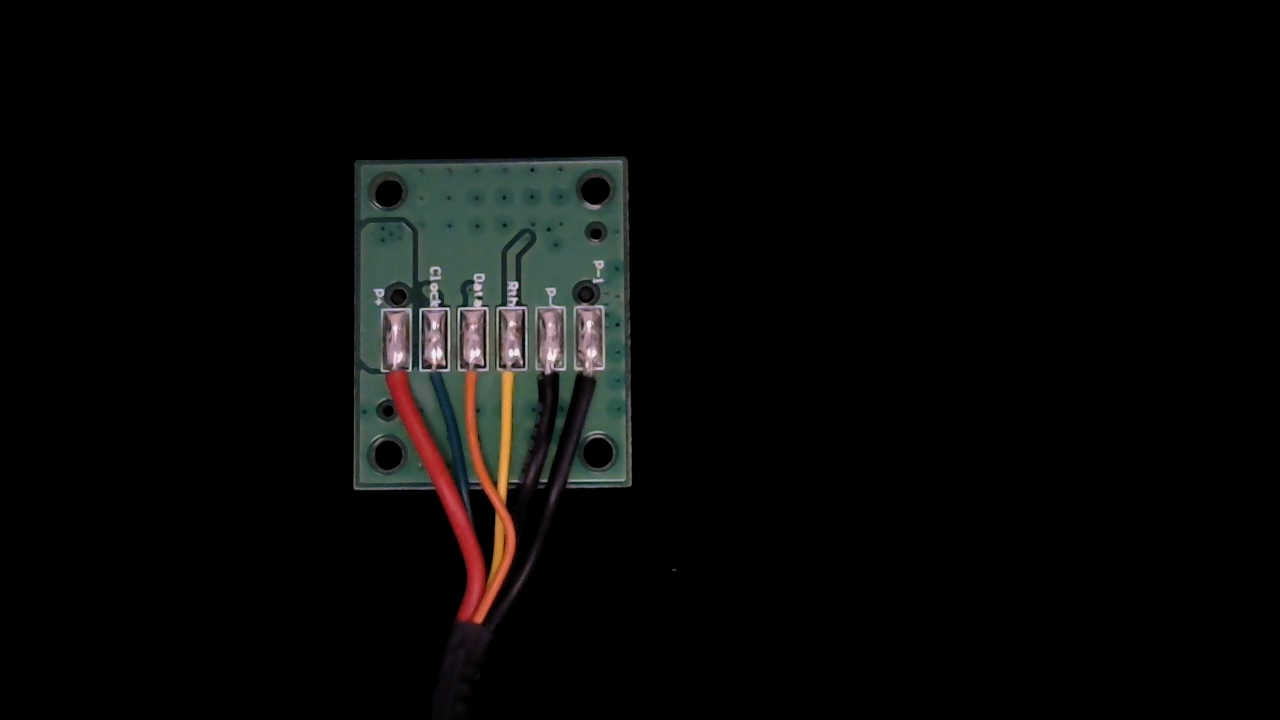Black: (533, 355, 567, 429)
Black1: (574, 354, 608, 422)
Green: (420, 352, 454, 423)
Orange: (459, 353, 492, 426)
Red: (378, 357, 413, 428)
Yellow: (497, 353, 531, 428)
